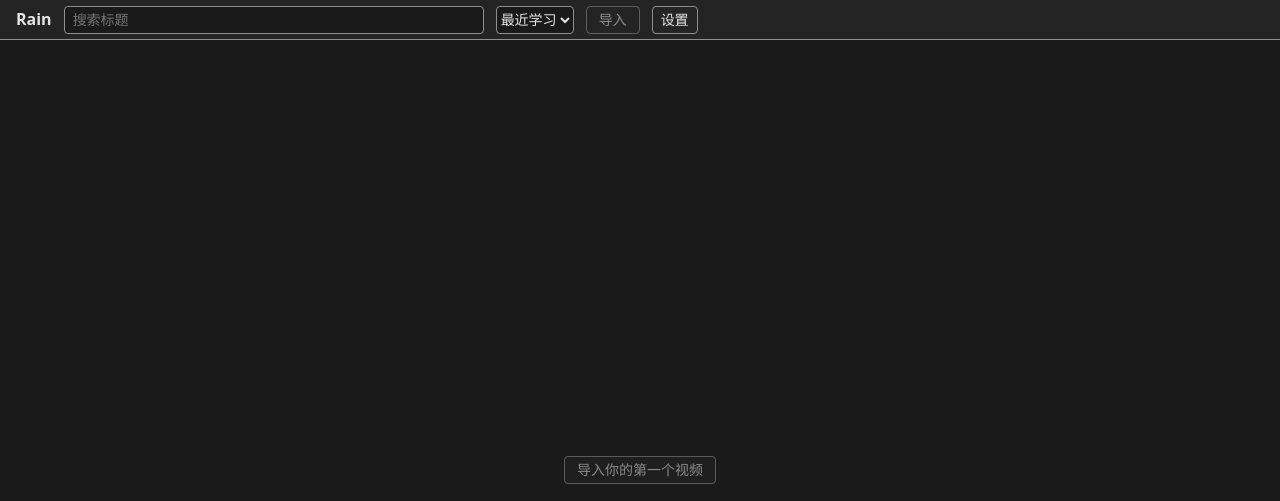
Test: AC-VL-03 VideoListPage title search › does not let a delayed import refresh overwrite a newer title-query failure
Type "old" into the field named "搜索视频标题" at (274, 20), box [64,6,484,34]
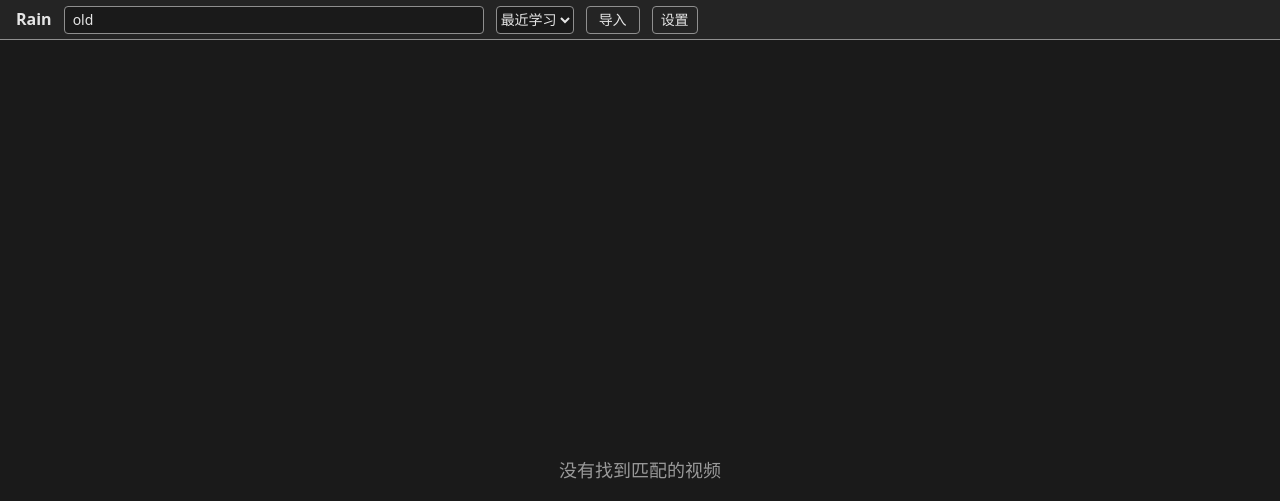
Replace the text in the field named "搜索视频标题" with "new" at (274, 20), box [64,6,484,34]
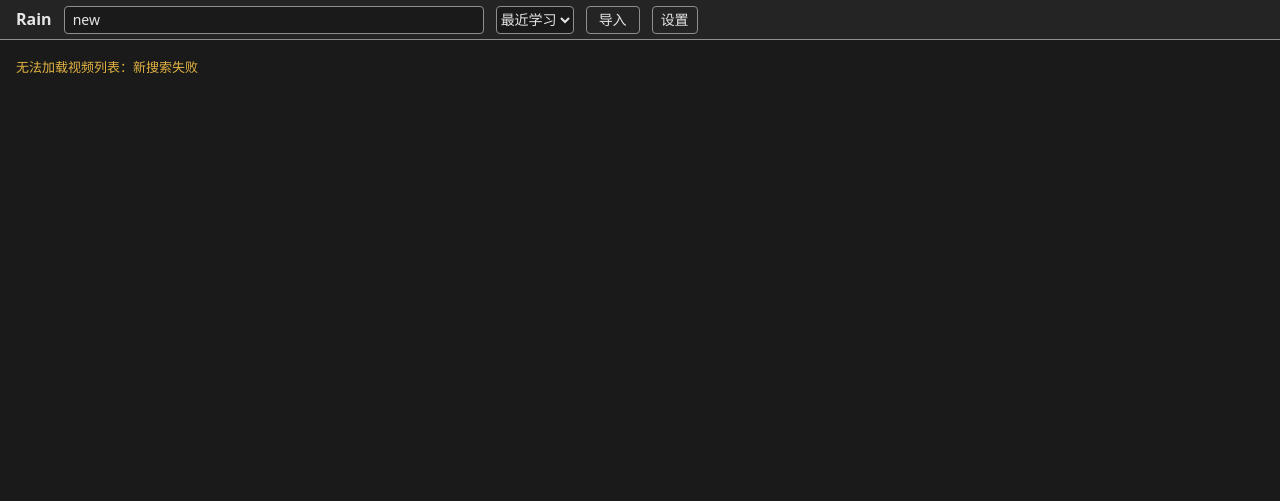
Expected: the message reads "无法加载视频列表：新搜索失败", [16,58,198,76]
